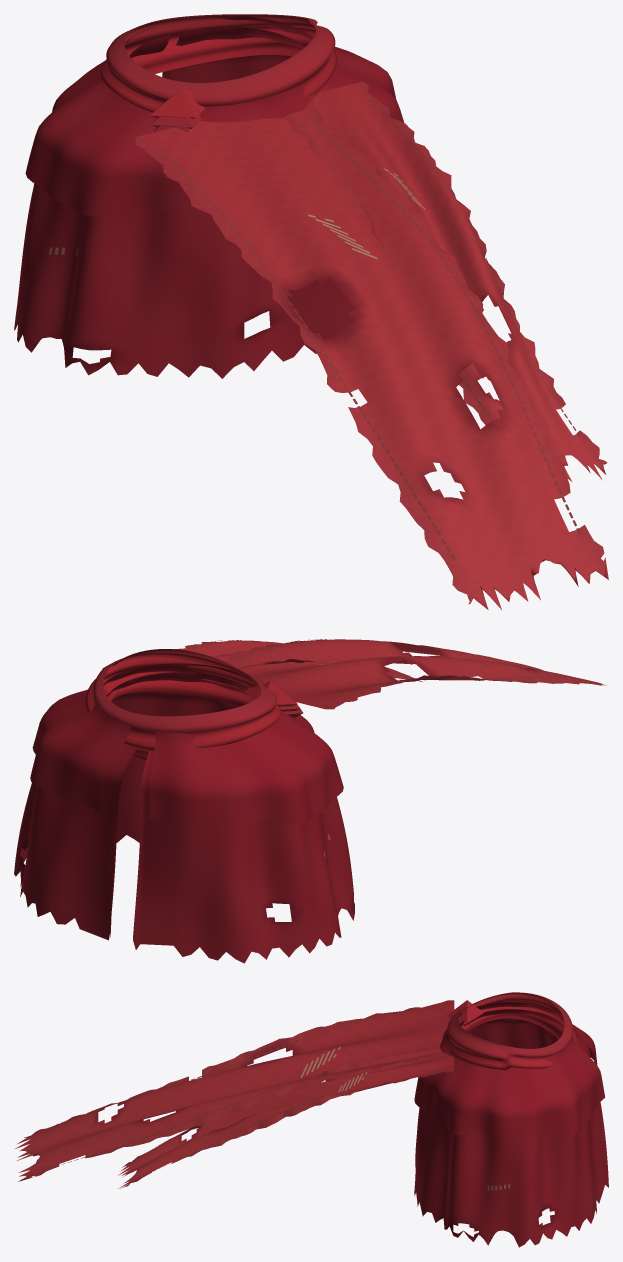
Rendered from ronin_scarf.glb.
3 renders of one model, top to bottom at view 1: azimuth 30°, elevation 25°; view 2: azimuth 150°, elevation 25°; view 3: azimuth 270°, elevation 25°, orthographic. The views are drawn at different scales.
Visible parts, largest first — view 1: Scarf_Long_Tail, Cloak_Body_Wrap, Cloak_Shoulder_Mantle, Scarf_Split_Tail, Scarf_Neck_Wrap, Scarf_Hand_Tied_Knot; view 2: Cloak_Body_Wrap, Cloak_Shoulder_Mantle, Scarf_Long_Tail, Scarf_Neck_Wrap, Scarf_Split_Tail, Scarf_Hand_Tied_Knot; view 3: Cloak_Body_Wrap, Scarf_Long_Tail, Cloak_Shoulder_Mantle, Scarf_Split_Tail, Scarf_Neck_Wrap, Scarf_Hand_Tied_Knot.
Boxes of the visible parts, box(x1,y1,x2,y2) form: Scarf_Long_Tail: box(135, 100, 608, 609); Cloak_Body_Wrap: box(14, 26, 354, 378); Cloak_Shoulder_Mantle: box(25, 15, 404, 216); Scarf_Split_Tail: box(285, 81, 607, 481); Scarf_Neck_Wrap: box(99, 14, 337, 112); Scarf_Hand_Tied_Knot: box(150, 87, 204, 132); Cloak_Body_Wrap: box(14, 672, 354, 963); Cloak_Shoulder_Mantle: box(30, 663, 343, 824); Scarf_Long_Tail: box(217, 639, 606, 709); Scarf_Neck_Wrap: box(85, 649, 281, 760); Scarf_Split_Tail: box(173, 640, 422, 682); Scarf_Hand_Tied_Knot: box(244, 681, 303, 717); Cloak_Body_Wrap: box(414, 1009, 608, 1247); Scarf_Long_Tail: box(15, 1000, 454, 1181); Cloak_Shoulder_Mantle: box(414, 1002, 605, 1138); Scarf_Split_Tail: box(118, 1046, 454, 1188); Scarf_Neck_Wrap: box(447, 992, 577, 1070); Scarf_Hand_Tied_Knot: box(447, 1000, 483, 1026).
Bounding box in the file's own units: 1.99 × 1.35 × 4.2.
